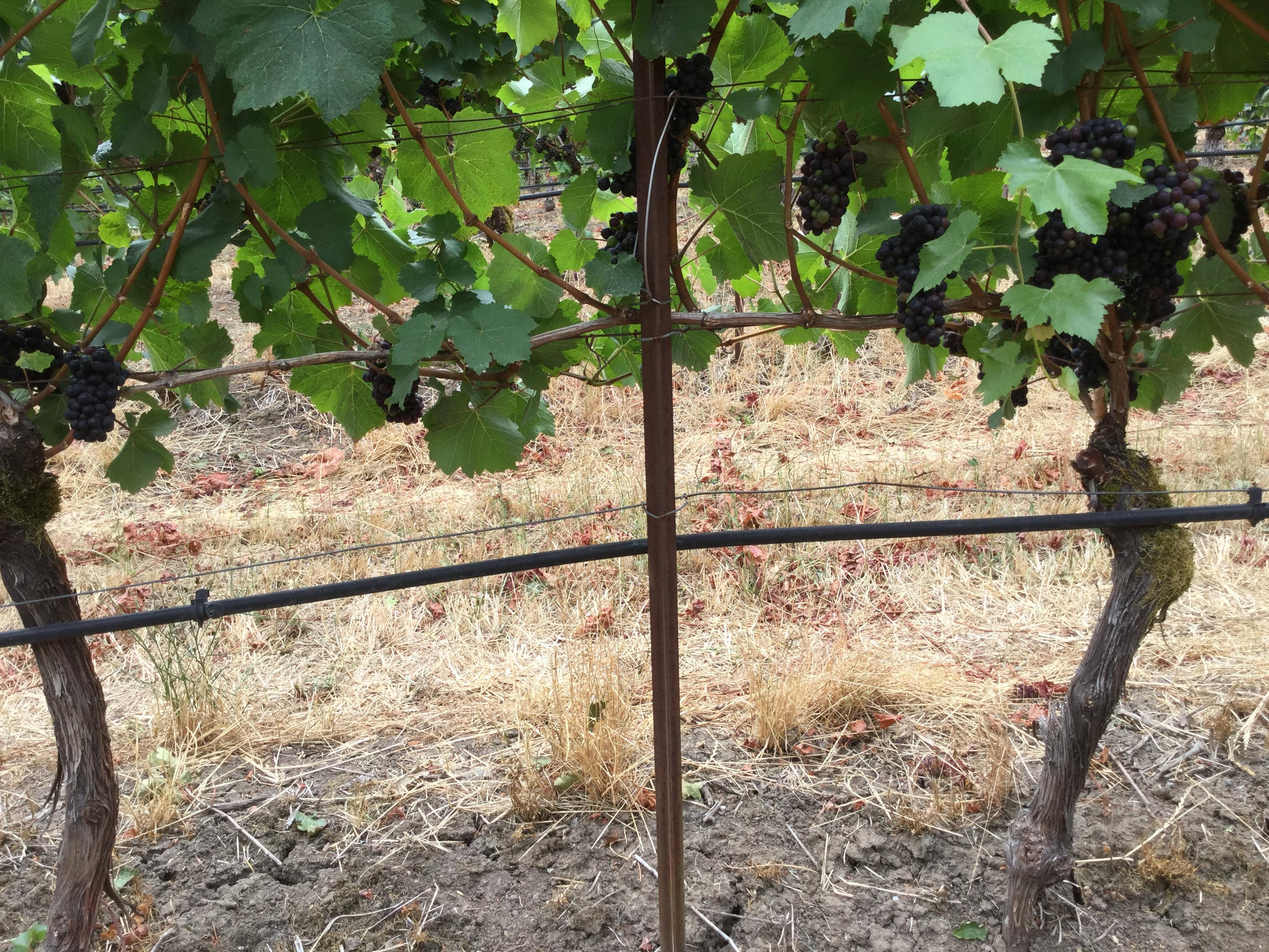leaf: (190, 0, 396, 117), (894, 12, 1059, 105), (998, 140, 1140, 234), (411, 106, 519, 219), (1163, 257, 1264, 366), (689, 150, 786, 263), (424, 392, 526, 476), (1002, 274, 1122, 341), (291, 363, 385, 440), (172, 182, 244, 280), (798, 31, 895, 103), (447, 292, 535, 371), (0, 57, 59, 172), (253, 149, 327, 229), (107, 408, 175, 493), (944, 98, 1016, 178), (912, 210, 980, 293), (487, 244, 563, 318), (712, 17, 791, 85), (498, 57, 575, 123), (397, 141, 461, 219), (633, 0, 716, 58), (252, 293, 321, 358), (296, 198, 355, 270), (1040, 30, 1104, 94), (1141, 338, 1194, 410), (390, 304, 448, 366), (496, 0, 558, 56), (584, 102, 633, 172), (223, 125, 278, 187), (975, 340, 1028, 404), (110, 100, 166, 159), (70, 0, 116, 66), (0, 234, 35, 320), (1168, 0, 1220, 53), (584, 252, 643, 296), (788, 0, 852, 39), (901, 335, 949, 386), (560, 169, 596, 234), (727, 87, 781, 130), (670, 328, 720, 371), (504, 233, 558, 272), (549, 229, 598, 270), (398, 259, 441, 301), (851, 0, 892, 43), (1108, 180, 1157, 208), (1117, 0, 1168, 26), (98, 211, 131, 247), (156, 237, 171, 260), (737, 147, 752, 152), (150, 256, 155, 260), (537, 0, 547, 2), (850, 110, 853, 114), (437, 301, 441, 304), (755, 17, 765, 18), (563, 265, 568, 267), (582, 232, 584, 234), (552, 13, 553, 17), (552, 3, 553, 6), (869, 37, 870, 39), (735, 18, 739, 18), (839, 24, 839, 24), (799, 11, 800, 11)
